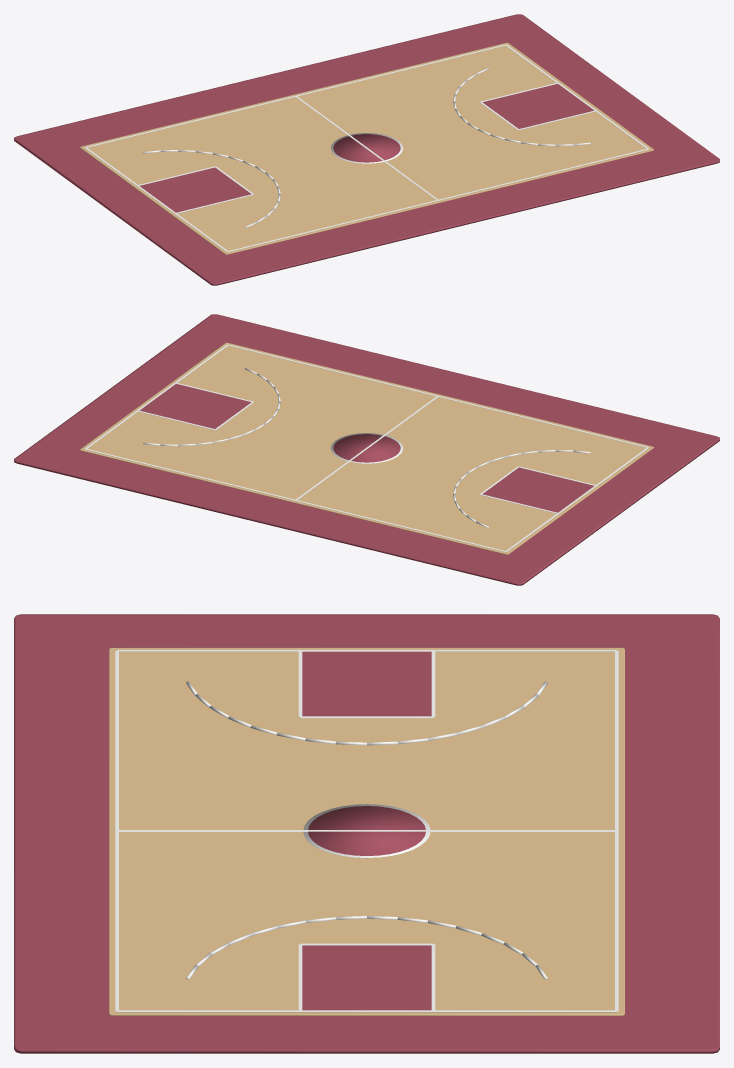
The model's file is SM_Gym_BasketballCourt.fbx.
3 renders of one model, top to bottom at view 1: azimuth 30°, elevation 25°; view 2: azimuth 150°, elevation 25°; view 3: azimuth 270°, elevation 25°, orthographic. The views are drawn at different scales.
Visible parts, largest first — view 1: SM_Gym_BasketballCourt; view 2: SM_Gym_BasketballCourt; view 3: SM_Gym_BasketballCourt.
Part boxes in pixels (bbox=[...]): SM_Gym_BasketballCourt: bbox=[14, 14, 719, 285]; SM_Gym_BasketballCourt: bbox=[14, 314, 719, 585]; SM_Gym_BasketballCourt: bbox=[14, 614, 719, 1053].
Bounding box in the file's own units: 38 × 0.259 × 26.
